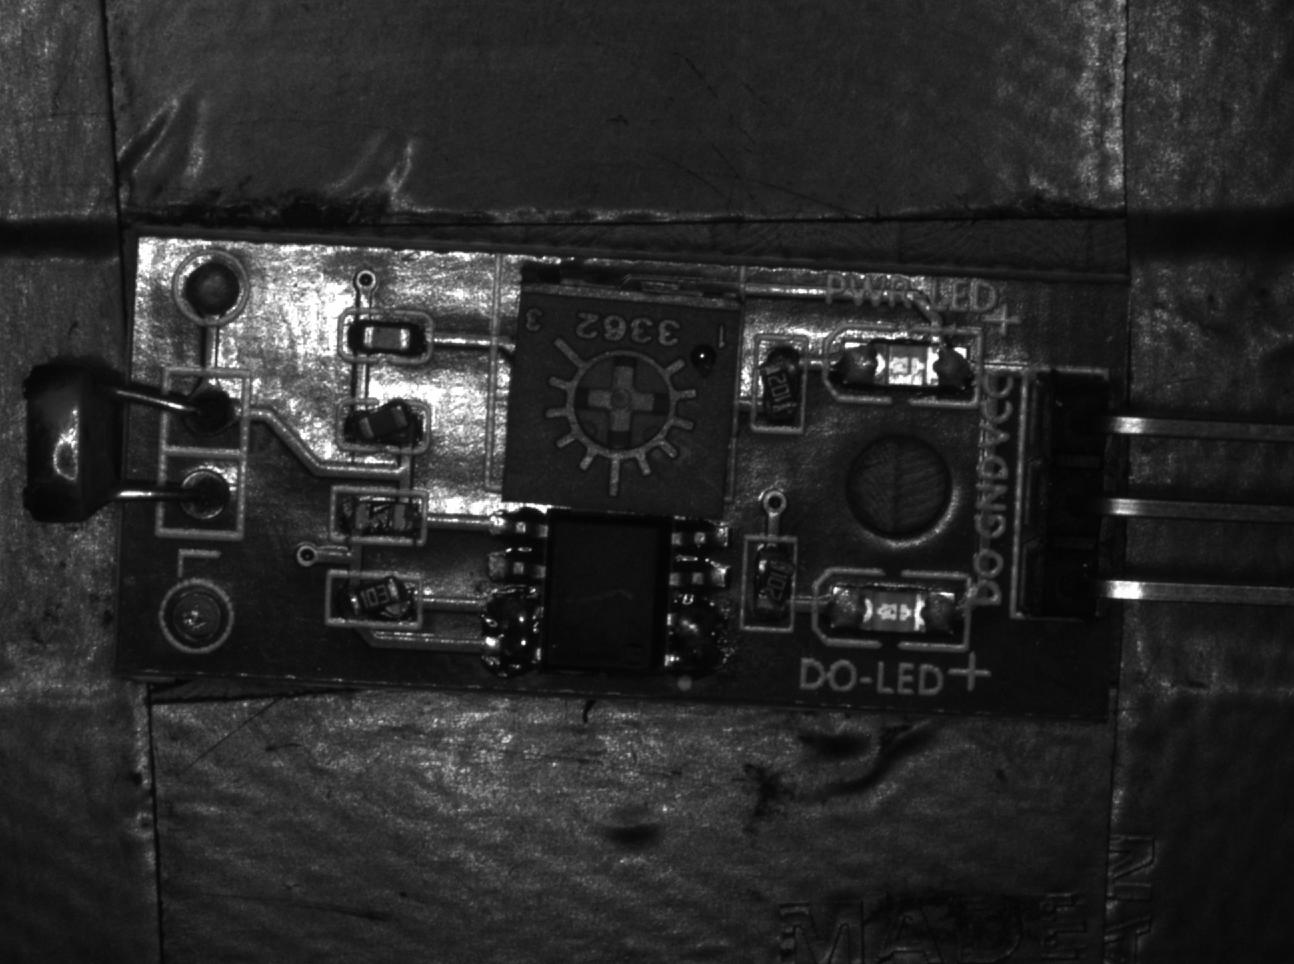bridge: (667, 601, 727, 675), (486, 597, 542, 671)
lifted: (752, 335, 806, 435), (337, 397, 432, 452), (745, 535, 797, 635), (329, 572, 421, 622)
miss: (334, 486, 427, 547)
ok: (343, 307, 430, 365)
